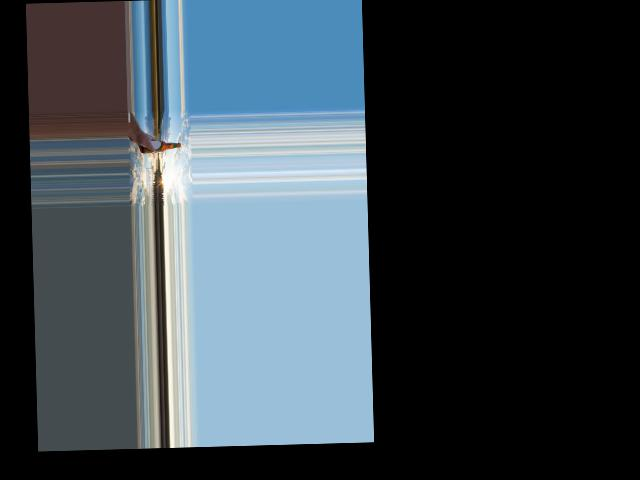beer: (141, 139, 181, 154)
